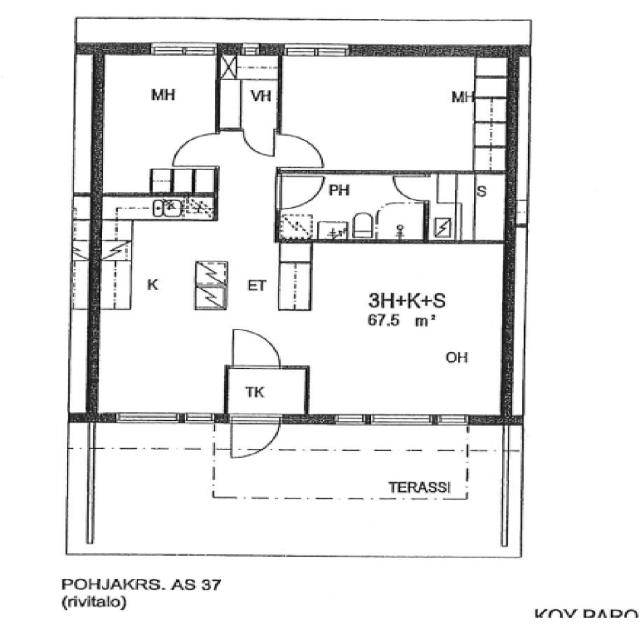door: (220, 323, 292, 372), (227, 412, 284, 461), (164, 126, 224, 170), (273, 171, 327, 212), (275, 129, 328, 169), (386, 172, 438, 204), (236, 126, 278, 160)
window: (106, 409, 192, 428), (280, 40, 356, 60), (364, 411, 438, 429), (146, 40, 215, 58), (328, 411, 374, 428), (429, 411, 474, 428)
zone: (280, 236, 516, 419), (278, 52, 516, 170), (88, 50, 221, 196), (273, 172, 434, 241), (426, 172, 509, 244), (218, 50, 281, 130), (224, 367, 309, 421)
